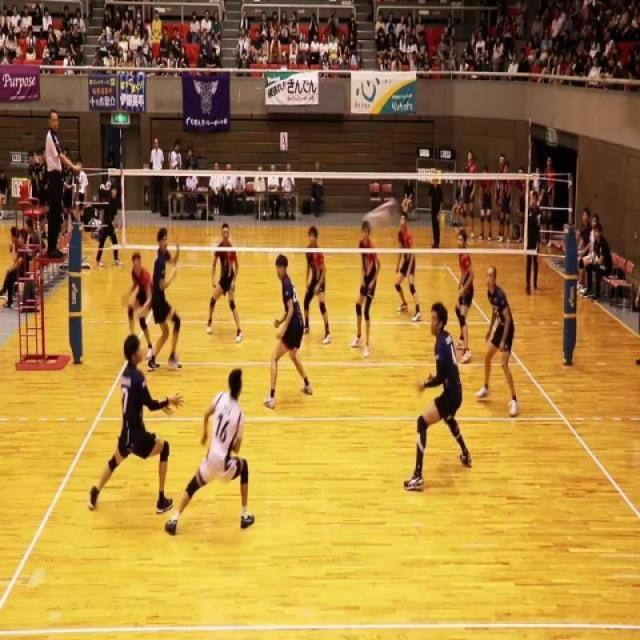volleyball: (361, 198, 397, 228)
